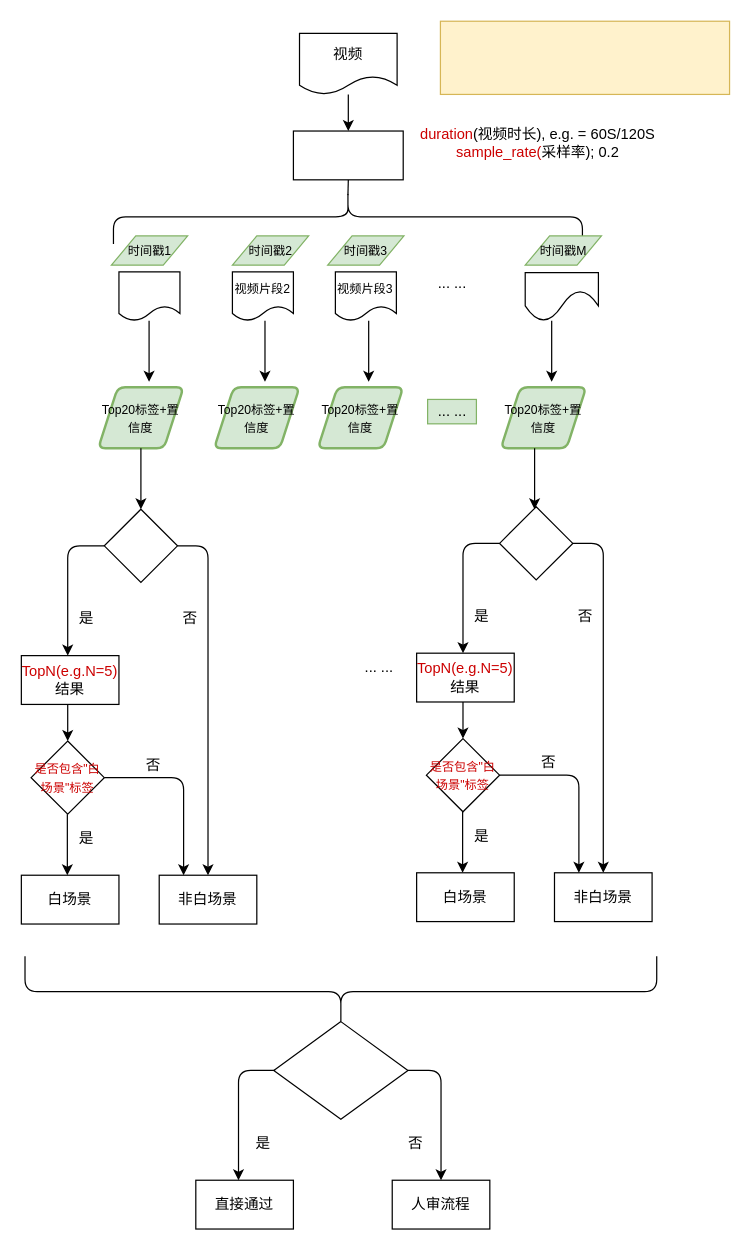
Image size: 752x1251. Some labels were removed from this diagram. Each missing label, with the box of its shape:
白场景比例 >H%(e.g H=80): (273, 1020, 408, 1119)
红色字体是可调参数 绿色框是需要考虑存储的数据: (439, 20, 730, 94)
置信度 >0.4: (498, 506, 573, 580)
置信度>0.4: (103, 508, 178, 582)
视频拆分: (292, 130, 403, 180)
视频片段1: (118, 271, 180, 321)
视频片段M: (524, 271, 598, 321)
